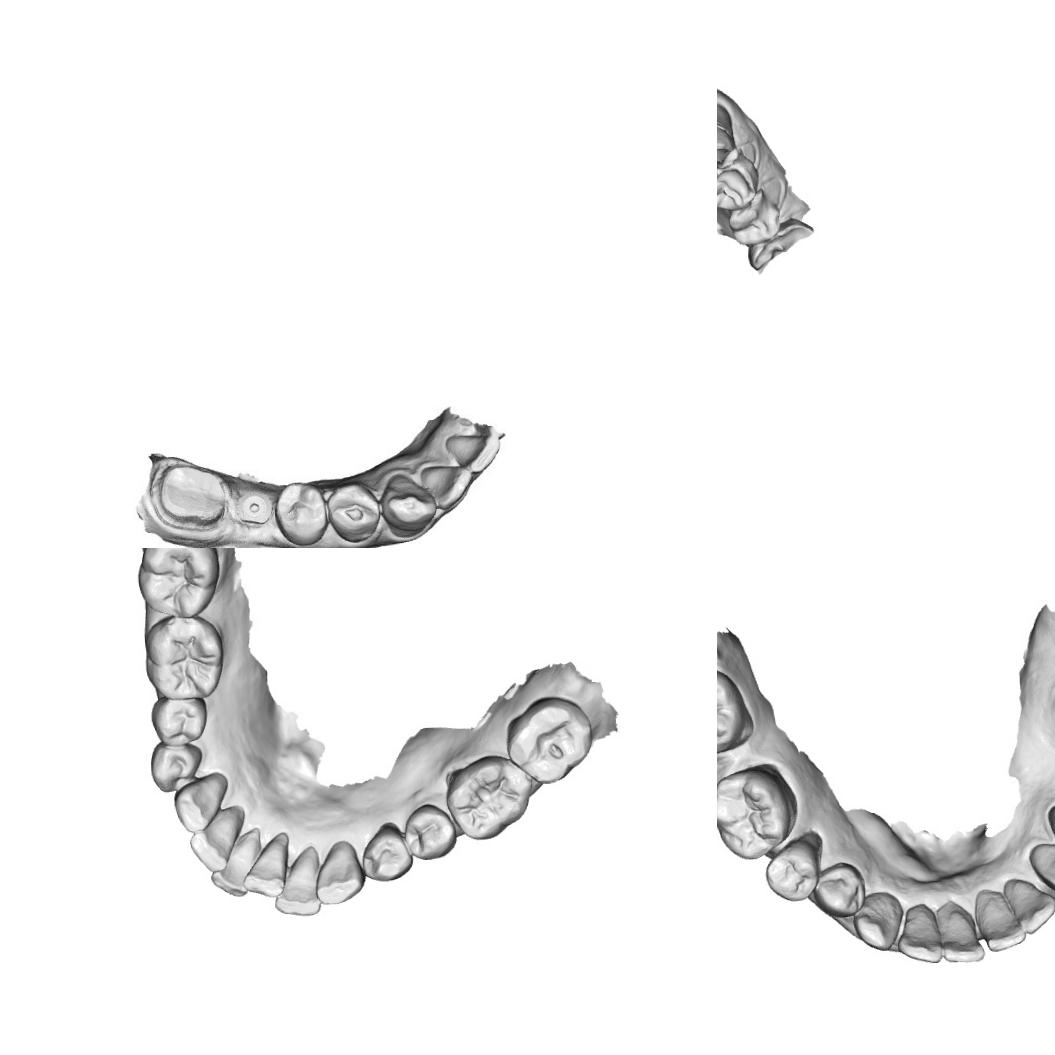canine: (378, 470, 438, 536), (172, 770, 229, 834), (312, 838, 365, 906), (850, 890, 906, 950), (1027, 839, 1055, 896), (717, 100, 736, 170)
crown: (154, 460, 232, 528)
implant: (236, 487, 275, 531)
incisor: (208, 827, 264, 898), (977, 885, 1028, 955), (188, 811, 244, 874), (243, 832, 294, 899), (274, 850, 324, 916), (1002, 877, 1055, 937), (939, 902, 986, 967), (897, 902, 944, 965), (444, 428, 500, 475), (426, 460, 472, 511)
molar: (500, 694, 596, 786), (136, 613, 226, 704), (442, 753, 532, 842), (717, 764, 794, 862), (134, 548, 221, 620), (717, 670, 748, 758)
premolar: (272, 480, 332, 548), (326, 481, 386, 546), (762, 842, 822, 904), (725, 190, 782, 250), (358, 823, 412, 885), (150, 695, 209, 750), (404, 802, 456, 862), (148, 740, 203, 795), (814, 860, 864, 919), (717, 158, 763, 216)
